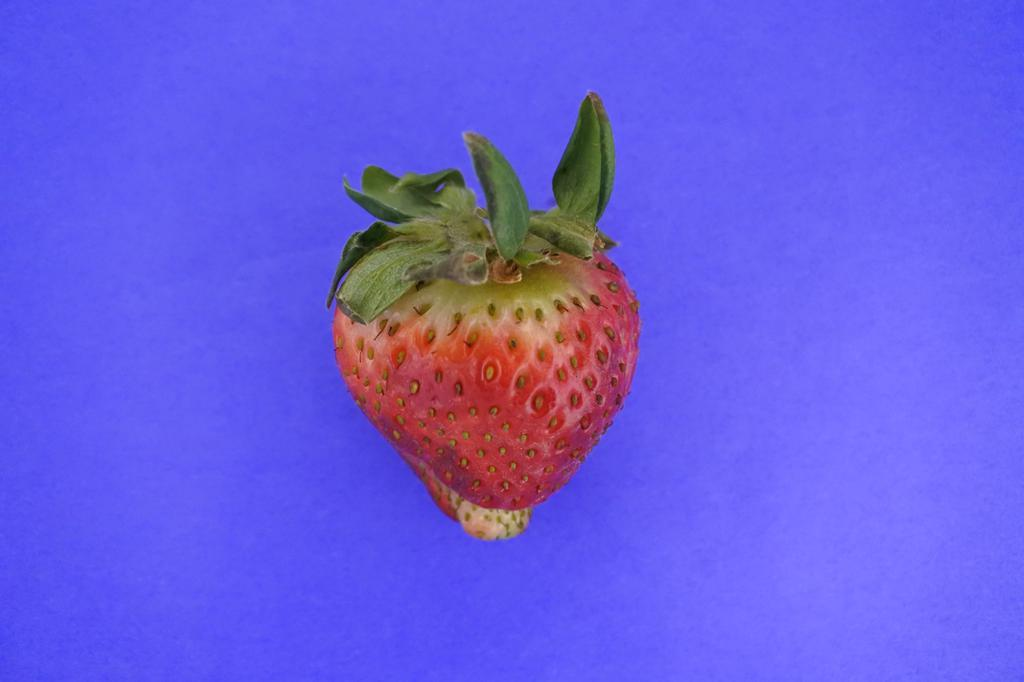red strawberry: (329, 87, 642, 542)
